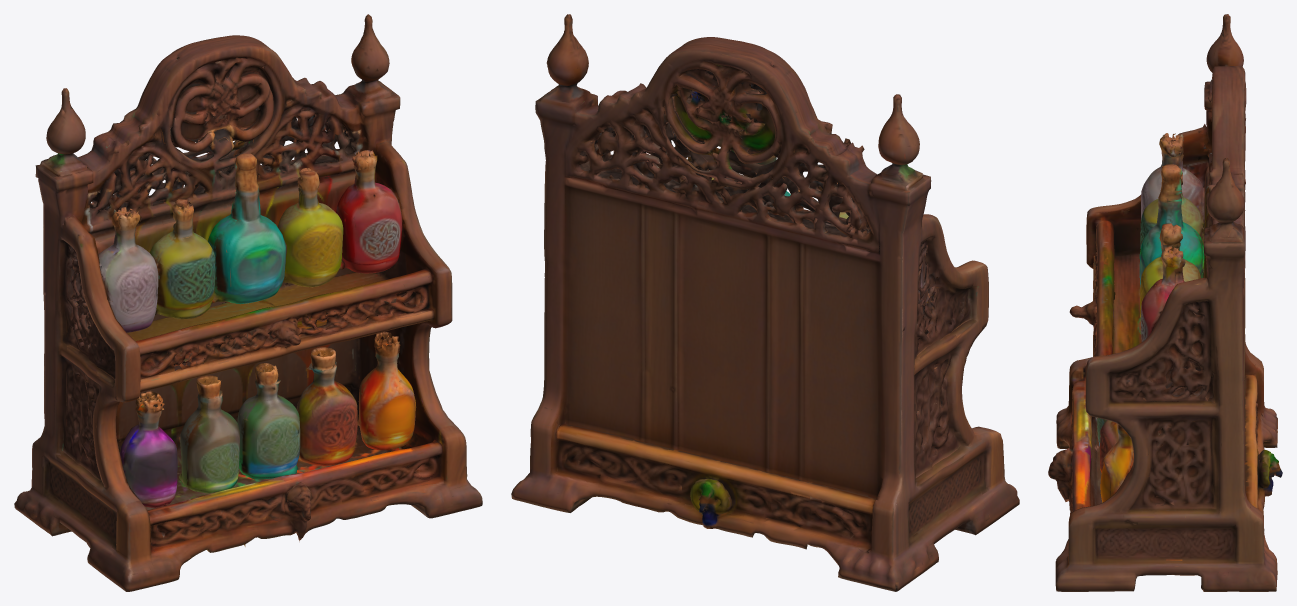
Rendered from Potion_Shelf_0613150004_texture.fbx.
3 views of the same model, side by side, from view 1: azimuth 30°, elevation 25°; view 2: azimuth 150°, elevation 25°; view 3: azimuth 270°, elevation 25° (orthographic). The views are drawn at different scales.
Parts seen in each view (by area): view 1: Mesh1; view 2: Mesh1; view 3: Mesh1.
Part boxes in pixels (x1,y1,x2,y2): Mesh1: (14,14,482,591); Mesh1: (511,14,1019,591); Mesh1: (1048,14,1282,591).
Size of the model in its own units: 169 by 200 by 99.19.
1 material, 1 textured.
